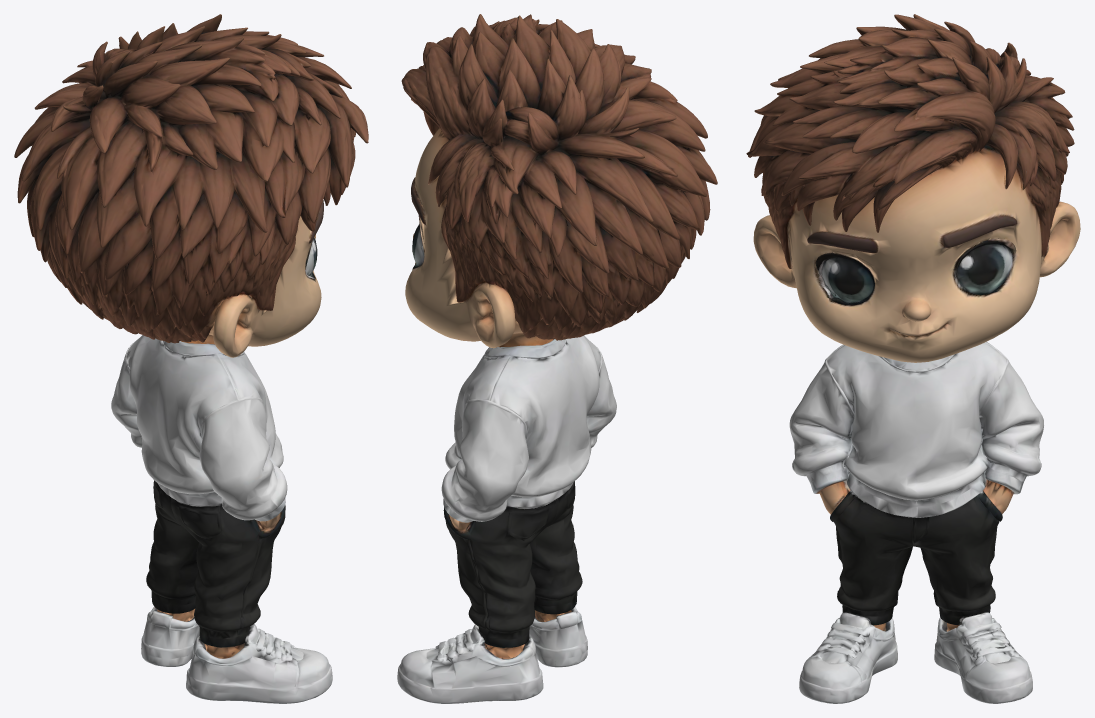
The picture shows the model from 3 angles, left to right: view 1: azimuth 30°, elevation 25°; view 2: azimuth 150°, elevation 25°; view 3: azimuth 270°, elevation 25°; orthographic projection.
Parts seen in each view (by area): view 1: tripo_node_bec574b1-27d4-4031-8ea3-23631a886e64; view 2: tripo_node_bec574b1-27d4-4031-8ea3-23631a886e64; view 3: tripo_node_bec574b1-27d4-4031-8ea3-23631a886e64.
Boxes of the visible parts, x1=… form: tripo_node_bec574b1-27d4-4031-8ea3-23631a886e64: x1=14, y1=14, x2=368, y2=703; tripo_node_bec574b1-27d4-4031-8ea3-23631a886e64: x1=397, y1=14, x2=717, y2=703; tripo_node_bec574b1-27d4-4031-8ea3-23631a886e64: x1=746, y1=14, x2=1080, y2=703.
Size of the model in its own units: 0.2128 by 0.45 by 0.2143.
1 material, 1 textured.
